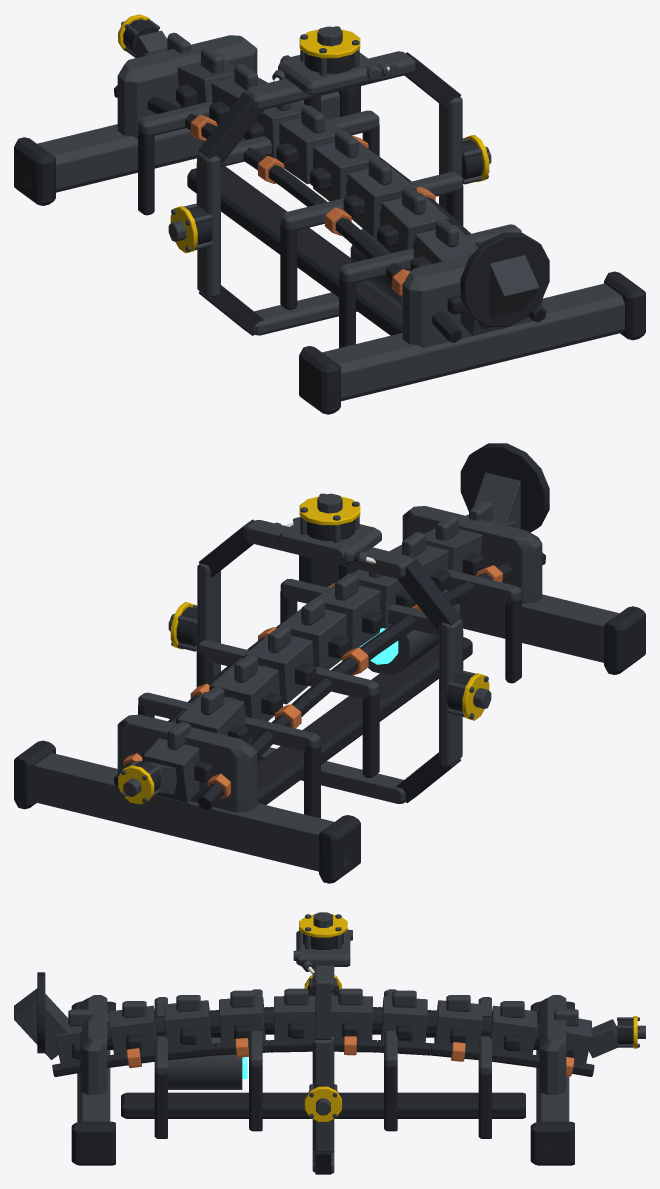
The model's file is Skel_TorsoAnimal_Light.fbx.
3 renders of one model, top to bottom at view 1: azimuth 30°, elevation 25°; view 2: azimuth 150°, elevation 25°; view 3: azimuth 270°, elevation 25°, orthographic. The views are drawn at different scales.
Parts seen in each view (by area): view 1: Skel_TorsoAnimal_Light; view 2: Skel_TorsoAnimal_Light; view 3: Skel_TorsoAnimal_Light.
Part boxes in pixels (bbox=[...]): Skel_TorsoAnimal_Light: bbox=[14, 14, 645, 414]; Skel_TorsoAnimal_Light: bbox=[14, 443, 645, 883]; Skel_TorsoAnimal_Light: bbox=[14, 912, 645, 1174].
Size of the model in its own units: 1.12 by 0.93 by 2.34.
